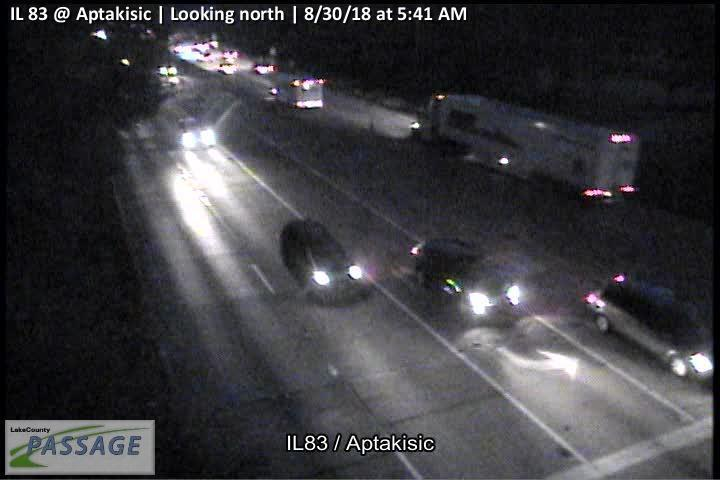Sedan: (584, 274, 716, 381), (409, 239, 527, 325), (286, 222, 369, 304)
Truck: (408, 91, 642, 218)
